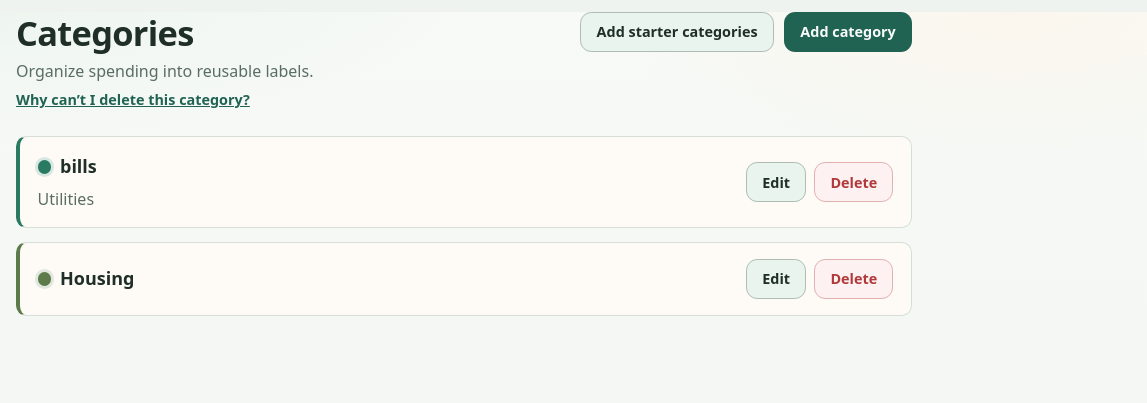
Scenario: CategoriesPage › shows an error when deletion fails
Expected: the heading "bills" is shown, [38, 153, 97, 181]
Step 1. Click the button "Delete" in the row of "bills" → coordinates (854, 182), box [814, 162, 893, 202]
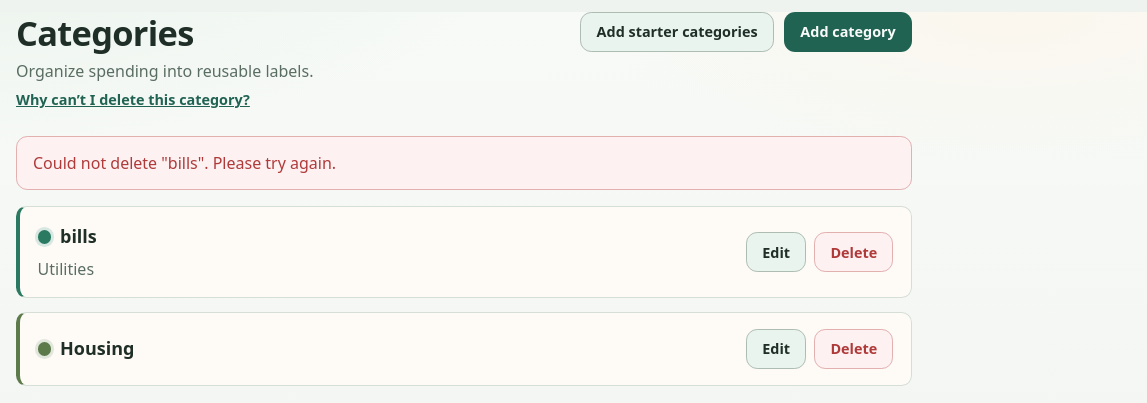
Expected: the heading "bills" is shown, [38, 223, 97, 251]
Result: the message shows "Could not delete \"bills\"" at [33, 152, 336, 174]
